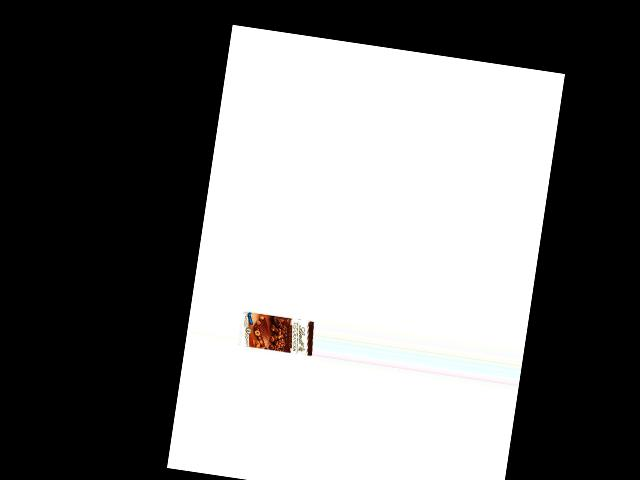chocolate: (241, 309, 314, 361)
